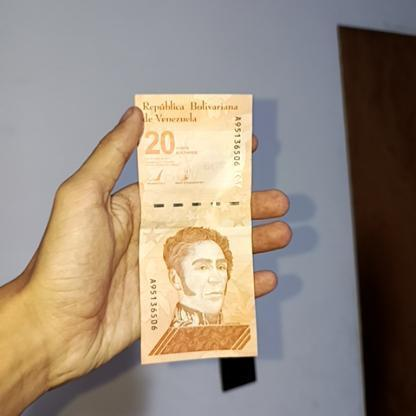twenty-front-vef: (134, 92, 258, 365)
